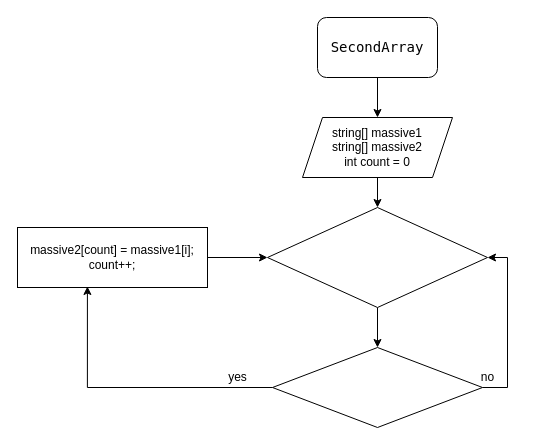
Image size: 533x445. Some labels were removed from this diagram. Each missing label, with the box of its shape:
for (int i = 0; i < massive1.Lenght;: (266, 206, 488, 308)
if (massive1[i].Lenght <= 3): (272, 346, 482, 428)
